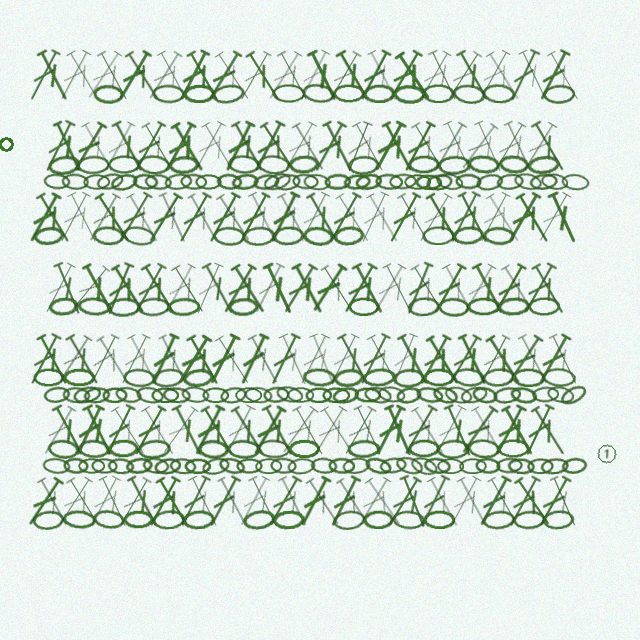chain: (211, 82, 246, 106), (121, 224, 156, 248), (558, 382, 589, 408), (301, 82, 336, 105), (92, 508, 126, 531), (242, 508, 276, 531), (151, 367, 186, 389), (452, 83, 486, 105), (47, 154, 81, 176), (137, 438, 171, 460), (332, 509, 366, 531), (482, 509, 516, 531), (527, 154, 560, 176), (302, 225, 335, 247), (182, 367, 215, 389), (47, 438, 80, 460), (32, 509, 65, 531), (409, 454, 439, 478), (77, 296, 111, 317), (302, 367, 336, 388), (362, 367, 396, 388), (542, 367, 576, 388), (62, 509, 96, 530), (152, 509, 186, 530), (262, 170, 293, 193), (394, 454, 425, 477), (33, 225, 65, 247), (333, 367, 365, 389), (482, 83, 515, 104), (137, 154, 170, 175), (227, 154, 260, 175), (257, 154, 290, 175), (467, 154, 500, 175), (92, 225, 125, 246), (272, 225, 305, 246), (452, 225, 485, 246), (407, 296, 440, 317), (497, 296, 530, 317), (452, 367, 485, 388), (482, 367, 515, 388), (467, 438, 500, 459), (182, 509, 215, 530), (272, 509, 305, 530), (542, 509, 575, 530), (443, 384, 474, 406), (437, 155, 471, 175), (242, 226, 276, 246), (288, 154, 320, 175), (498, 154, 530, 175), (333, 225, 365, 246), (48, 296, 80, 317), (152, 84, 185, 104), (77, 155, 110, 175), (347, 155, 380, 175), (109, 171, 139, 193), (107, 297, 140, 317), (137, 297, 170, 317), (167, 297, 200, 317), (459, 384, 489, 406), (227, 439, 260, 459), (257, 439, 290, 459), (347, 439, 380, 459), (437, 439, 470, 459), (201, 455, 231, 477), (217, 455, 247, 477), (363, 455, 393, 477), (392, 510, 425, 530), (393, 84, 425, 104), (543, 84, 575, 104), (168, 155, 200, 175), (213, 226, 245, 246), (483, 226, 515, 246), (438, 297, 470, 317), (123, 368, 155, 388), (393, 368, 425, 388), (78, 439, 110, 459), (513, 510, 545, 530), (431, 384, 460, 406), (95, 171, 125, 192), (513, 171, 543, 192), (72, 384, 102, 405), (272, 84, 305, 103), (422, 84, 455, 103), (422, 226, 455, 245), (467, 297, 500, 316), (512, 368, 545, 387), (497, 439, 530, 458), (93, 84, 124, 104), (228, 297, 259, 317), (198, 439, 229, 459), (435, 171, 464, 192), (275, 384, 304, 405), (546, 384, 575, 405), (183, 84, 215, 103), (333, 84, 365, 103), (363, 84, 395, 103), (108, 155, 140, 174), (408, 155, 440, 174), (348, 297, 380, 316), (528, 297, 560, 316), (33, 368, 65, 387), (63, 368, 95, 387), (423, 368, 455, 387), (288, 439, 320, 458), (408, 439, 440, 458), (423, 510, 455, 529), (135, 385, 165, 405), (363, 385, 393, 405), (492, 385, 522, 405), (108, 439, 139, 458), (123, 510, 154, 529), (363, 510, 394, 529), (252, 172, 281, 192), (273, 172, 302, 192), (425, 172, 454, 192), (475, 172, 504, 192), (114, 385, 143, 405), (219, 385, 248, 405), (331, 385, 360, 405), (415, 385, 444, 405), (509, 385, 538, 405), (153, 456, 182, 476), (395, 385, 423, 405), (471, 385, 499, 405), (164, 172, 193, 191), (354, 172, 383, 191), (529, 172, 558, 191), (540, 172, 569, 191), (181, 385, 210, 404), (377, 385, 406, 404), (342, 456, 371, 475), (231, 172, 259, 191), (496, 172, 524, 191), (43, 385, 71, 404), (125, 456, 153, 475), (142, 456, 170, 475), (379, 456, 407, 475), (423, 456, 451, 475), (561, 173, 590, 191), (62, 386, 91, 404), (162, 386, 191, 404), (244, 386, 273, 404), (42, 457, 71, 475), (287, 457, 316, 475), (540, 457, 569, 475), (561, 456, 588, 475), (144, 173, 172, 191), (303, 173, 331, 191), (343, 173, 371, 191), (83, 386, 111, 404), (107, 457, 135, 475), (169, 457, 197, 475), (507, 457, 535, 475), (43, 173, 71, 190), (61, 173, 89, 190), (375, 173, 403, 190), (389, 173, 417, 190), (310, 457, 338, 474), (132, 173, 159, 190), (180, 173, 207, 190), (216, 173, 243, 190), (292, 173, 319, 190), (324, 173, 351, 190), (455, 173, 482, 190), (263, 386, 290, 403), (532, 386, 559, 403), (270, 457, 297, 474), (328, 457, 355, 474), (496, 457, 523, 474), (151, 387, 179, 403), (322, 387, 350, 403), (459, 458, 487, 474), (63, 457, 89, 474), (475, 457, 501, 474), (83, 174, 110, 190), (195, 174, 222, 190), (404, 174, 431, 190), (415, 174, 442, 190), (202, 387, 229, 403), (235, 387, 262, 403), (287, 387, 314, 403), (305, 387, 332, 403), (354, 387, 381, 403), (78, 458, 105, 474), (91, 458, 118, 474), (184, 458, 211, 474), (236, 458, 263, 474), (255, 458, 282, 474), (437, 458, 464, 474), (527, 458, 554, 474), (102, 387, 128, 403)
double: (275, 403, 322, 458), (455, 403, 502, 458), (391, 48, 437, 104), (211, 190, 257, 246), (501, 332, 547, 388), (21, 474, 67, 530), (65, 262, 113, 315), (455, 120, 502, 174), (156, 403, 202, 458), (361, 474, 407, 529), (121, 48, 166, 104), (211, 48, 256, 104), (441, 48, 486, 104), (516, 119, 561, 175), (331, 190, 376, 246), (316, 261, 361, 317), (406, 261, 451, 317), (171, 332, 216, 388), (211, 332, 256, 388), (316, 403, 361, 459), (301, 474, 346, 530), (62, 47, 106, 104), (112, 47, 156, 104), (382, 47, 426, 104), (277, 118, 321, 175), (427, 118, 471, 175), (527, 118, 571, 175), (112, 189, 156, 246), (337, 260, 381, 317), (397, 402, 441, 459), (81, 48, 126, 103), (256, 119, 301, 174), (91, 190, 136, 245), (306, 261, 351, 316), (511, 474, 556, 529), (142, 48, 186, 104), (202, 48, 246, 104), (242, 48, 286, 104), (262, 48, 306, 104), (482, 48, 526, 104), (197, 119, 241, 175), (287, 119, 331, 175), (407, 119, 451, 175), (32, 190, 76, 246), (142, 190, 186, 246), (412, 190, 456, 246), (482, 190, 526, 246), (107, 261, 151, 317), (137, 261, 181, 317), (167, 261, 211, 317), (227, 261, 271, 317), (277, 261, 321, 317), (497, 261, 541, 317), (92, 332, 136, 388), (482, 332, 526, 388), (107, 403, 151, 459), (137, 403, 181, 459), (227, 403, 271, 459), (307, 403, 351, 459), (407, 403, 451, 459), (527, 403, 571, 459), (62, 474, 106, 530), (332, 474, 376, 530), (332, 47, 375, 104), (452, 47, 495, 104), (472, 47, 515, 104), (187, 118, 230, 175), (227, 118, 270, 175), (502, 189, 545, 246), (532, 189, 575, 246), (517, 260, 560, 317), (62, 331, 105, 388), (532, 331, 575, 388), (497, 402, 540, 459), (262, 473, 305, 530), (532, 473, 575, 530), (52, 332, 96, 387), (52, 474, 96, 529), (322, 48, 365, 104), (412, 48, 455, 104), (67, 119, 110, 175), (77, 119, 120, 175), (137, 119, 180, 175), (167, 119, 210, 175), (487, 119, 530, 175), (82, 190, 125, 246), (122, 190, 165, 246), (302, 190, 345, 246), (362, 190, 405, 246), (422, 190, 465, 246), (512, 190, 555, 246), (217, 261, 260, 317), (367, 261, 410, 317), (457, 261, 500, 317), (422, 332, 465, 388), (442, 332, 485, 388), (37, 403, 80, 459), (197, 403, 240, 459), (247, 403, 290, 459), (337, 403, 380, 459), (467, 403, 510, 459), (112, 474, 155, 530), (152, 474, 195, 530), (352, 474, 395, 530), (382, 474, 425, 530), (53, 47, 95, 104), (353, 47, 395, 104), (368, 118, 410, 175), (53, 189, 95, 246), (38, 260, 80, 317), (78, 260, 120, 317), (198, 260, 240, 317), (348, 260, 390, 317), (378, 260, 420, 317), (468, 260, 510, 317), (23, 331, 65, 388), (243, 331, 285, 388), (333, 331, 375, 388), (393, 331, 435, 388), (513, 331, 555, 388), (48, 402, 90, 459), (428, 402, 470, 459), (488, 402, 530, 459), (83, 473, 125, 530), (293, 473, 335, 530), (443, 473, 485, 530), (473, 473, 515, 530), (183, 48, 225, 104), (233, 48, 275, 104), (543, 48, 585, 104), (128, 119, 170, 175), (158, 119, 200, 175), (308, 119, 350, 175), (348, 119, 390, 175), (23, 190, 65, 246), (173, 190, 215, 246), (183, 190, 225, 246), (273, 190, 315, 246), (323, 190, 365, 246), (383, 190, 425, 246), (393, 190, 435, 246), (128, 261, 170, 317), (158, 261, 200, 317), (428, 261, 470, 317), (438, 261, 480, 317), (488, 261, 530, 317), (528, 261, 570, 317), (183, 332, 225, 388), (413, 332, 455, 388), (128, 403, 170, 459), (288, 403, 330, 459), (33, 474, 75, 530), (423, 474, 465, 530), (483, 474, 525, 530), (23, 47, 64, 104), (33, 47, 74, 104), (173, 47, 214, 104), (293, 47, 334, 104), (303, 47, 344, 104), (363, 47, 404, 104), (533, 47, 574, 104), (38, 118, 79, 175), (108, 118, 149, 175), (218, 118, 259, 175), (248, 118, 289, 175), (318, 118, 359, 175), (378, 118, 419, 175), (63, 189, 104, 246), (293, 189, 334, 246), (473, 189, 514, 246), (248, 260, 289, 317), (288, 260, 329, 317), (33, 331, 74, 388), (83, 331, 124, 388), (123, 331, 164, 388), (203, 331, 244, 388), (293, 331, 334, 388), (323, 331, 364, 388), (473, 331, 514, 388), (78, 402, 119, 459), (168, 402, 209, 459), (188, 402, 229, 459), (218, 402, 259, 459), (258, 402, 299, 459), (123, 473, 164, 530), (203, 473, 244, 530), (213, 473, 254, 530), (233, 473, 274, 530), (93, 48, 134, 104), (153, 48, 194, 104), (273, 48, 314, 104), (98, 119, 139, 175), (398, 119, 439, 175), (203, 190, 244, 246), (233, 190, 274, 246), (363, 332, 404, 388), (143, 474, 184, 530), (453, 474, 494, 530), (503, 474, 544, 530), (514, 47, 554, 104), (499, 118, 539, 175), (244, 189, 284, 246), (264, 189, 304, 246), (444, 189, 484, 246), (454, 189, 494, 246), (259, 260, 299, 317), (114, 331, 154, 388), (154, 331, 194, 388), (264, 331, 304, 388), (274, 331, 314, 388), (354, 331, 394, 388), (544, 331, 584, 388), (99, 402, 139, 459), (369, 402, 409, 459), (94, 473, 134, 530), (174, 473, 214, 530), (184, 473, 224, 530), (244, 473, 284, 530), (274, 473, 314, 530), (324, 473, 364, 530), (414, 473, 454, 530), (189, 260, 228, 318), (424, 47, 463, 104), (504, 47, 543, 104), (49, 118, 88, 175), (439, 118, 478, 175), (154, 189, 193, 246), (354, 189, 393, 246), (544, 189, 583, 246), (234, 331, 273, 388), (454, 331, 493, 388), (69, 402, 108, 459), (349, 402, 388, 459), (519, 402, 558, 459), (100, 260, 138, 318), (470, 118, 508, 175), (145, 331, 183, 388), (380, 402, 418, 459), (440, 402, 478, 459), (545, 473, 583, 530), (340, 118, 377, 176), (50, 260, 87, 317), (400, 260, 437, 317), (305, 331, 342, 388), (385, 331, 422, 388), (396, 473, 432, 530)
noise: (595, 442, 619, 466), (0, 135, 15, 153)
